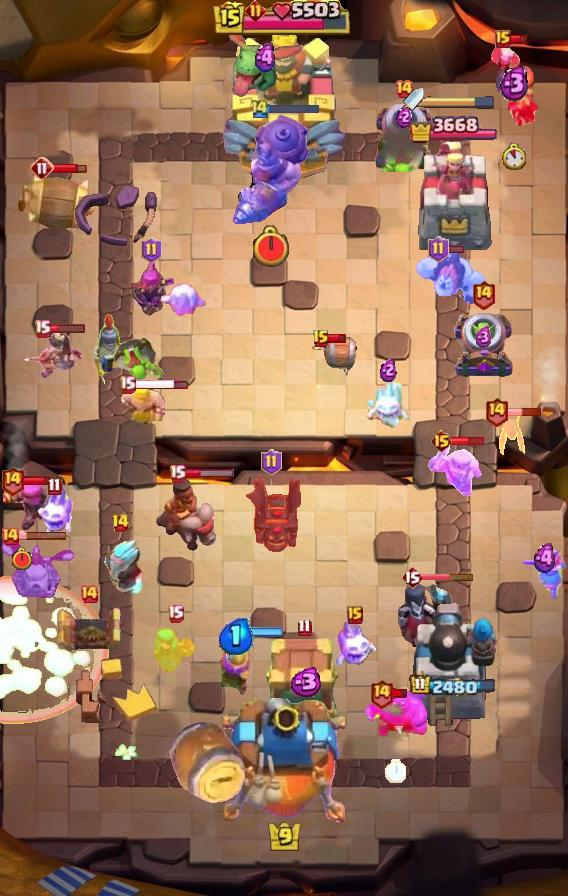archer-evolution: (128, 259, 174, 319)
bar: (134, 378, 189, 391), (268, 102, 320, 115), (16, 530, 68, 541), (184, 468, 235, 479), (232, 627, 283, 637), (421, 572, 475, 581), (451, 435, 486, 447), (52, 162, 87, 174), (15, 475, 52, 486), (49, 323, 86, 334), (507, 407, 542, 417), (328, 333, 347, 344), (509, 34, 528, 45), (446, 244, 465, 254), (392, 688, 409, 699)
bar-level: (369, 678, 394, 709), (0, 465, 25, 496), (484, 396, 509, 427), (471, 279, 496, 310), (30, 156, 54, 180), (430, 429, 453, 453), (261, 449, 282, 475), (141, 237, 162, 263), (428, 236, 449, 262), (401, 565, 423, 589), (245, 0, 266, 21), (250, 98, 270, 119), (79, 584, 99, 604), (0, 526, 20, 546), (394, 79, 414, 99), (111, 513, 130, 533), (312, 329, 330, 349), (167, 604, 184, 623), (169, 464, 186, 483), (119, 375, 136, 394), (34, 319, 51, 338), (347, 606, 363, 624), (495, 30, 511, 48), (297, 618, 312, 637), (47, 477, 62, 496)
barbarian: (117, 384, 165, 428)
barbarian-barrel: (15, 170, 99, 232)
barbarian-evolution: (427, 443, 482, 497)
bat-evolution: (498, 412, 528, 456)
cannoneer-tower: (408, 599, 498, 731)
clock: (251, 225, 291, 269), (502, 143, 526, 170), (11, 547, 33, 571), (385, 759, 406, 783)
dagger-duchess-tower: (412, 140, 494, 256)
dagger-duchess-tower-bar: (424, 95, 496, 109)
elixir: (219, 618, 254, 655), (499, 64, 530, 102), (286, 667, 323, 697), (531, 543, 560, 574), (252, 43, 280, 73), (380, 357, 397, 382), (475, 326, 492, 349), (396, 106, 412, 128)
elixir-golem-mid: (363, 689, 427, 739)
firecracker: (0, 479, 50, 533)
goblin-ball: (112, 336, 166, 384)
guard: (89, 314, 133, 396)
ice-spirit: (364, 381, 412, 429)
ice-spirit-evolution: (334, 619, 376, 669), (34, 487, 74, 537), (158, 282, 208, 320)
ice-wizard: (94, 536, 146, 600)
king-tower: (220, 21, 348, 181), (223, 698, 345, 826)
king-tower-bar: (213, 0, 355, 38)
mortar-evolution: (451, 310, 515, 380), (372, 102, 436, 172)
musketeer: (216, 629, 256, 697)
night-witch: (489, 44, 539, 130), (398, 581, 454, 653)
princess: (22, 329, 84, 381)
ram-rider: (154, 476, 220, 552)
rascal-girl: (153, 626, 197, 672)
tesla: (53, 606, 125, 654)
tower-bar: (409, 113, 497, 147), (409, 674, 497, 698)
valkyrie: (520, 548, 568, 602)
wall-breaker: (309, 336, 359, 378)
